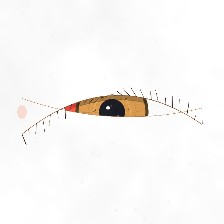hemorrhage_spot: (53, 74, 133, 138)
